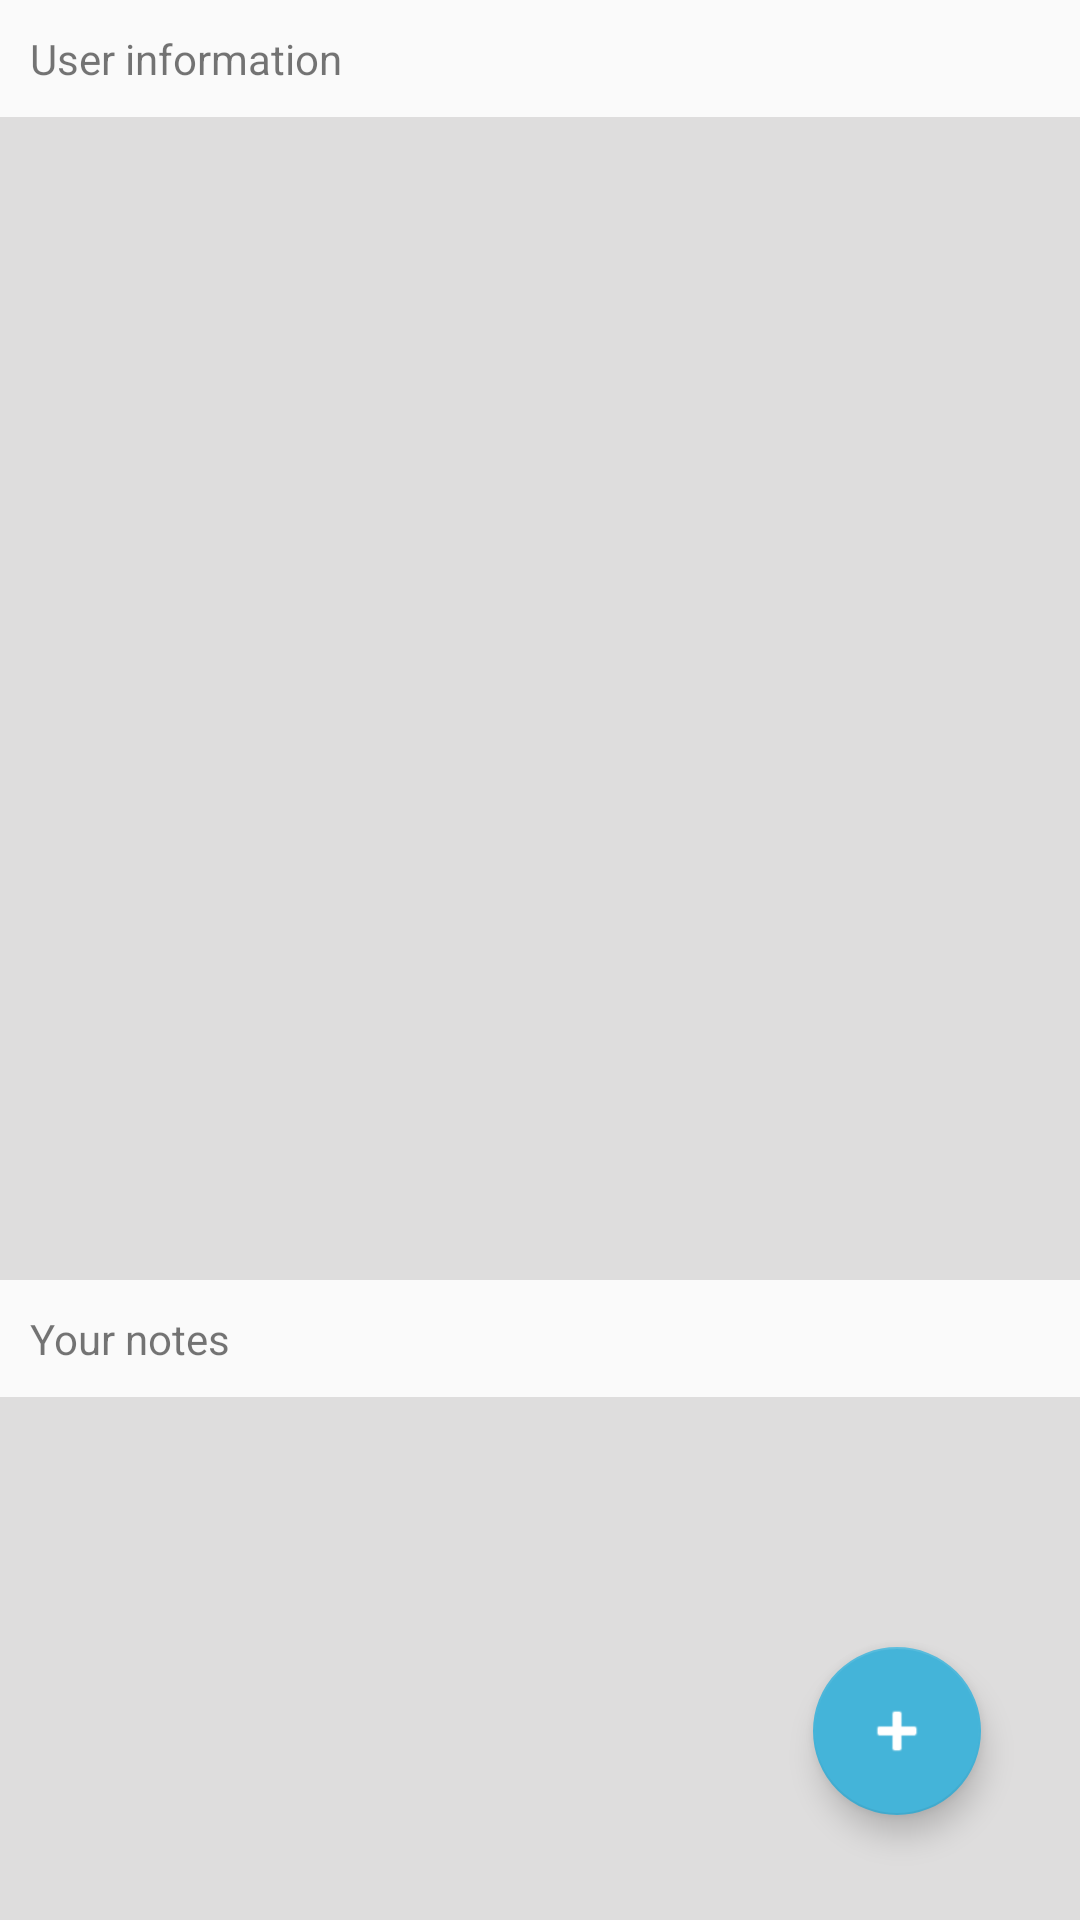

Icon click points for this 1080 x 1920 phone screenshot, format (x,y):
add: (897,1731)
